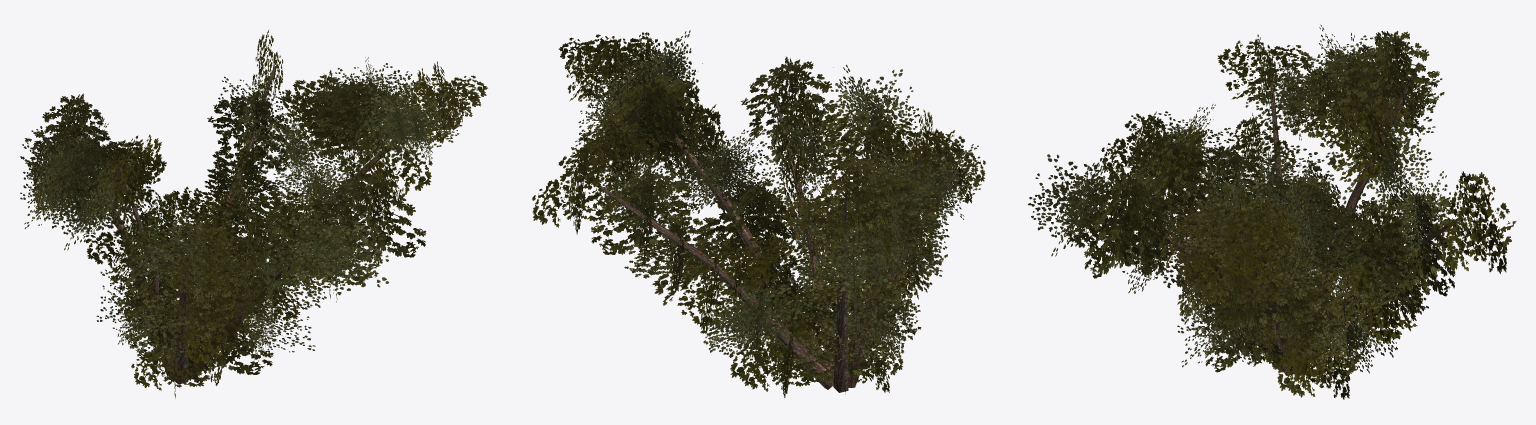
Rendered from bush_3d_05_lod1.glb.
3 views of the same model, side by side, from view 1: azimuth 30°, elevation 25°; view 2: azimuth 150°, elevation 25°; view 3: azimuth 270°, elevation 25° (orthographic). The views are drawn at different scales.
Parts seen in each view (by area): view 1: foliage_cards, wood_geometry; view 2: foliage_cards, wood_geometry; view 3: foliage_cards, wood_geometry.
Boxes of the visible parts, x1=… form: foliage_cards: x1=20, y1=29, x2=487, y2=398; wood_geometry: x1=67, y1=67, x2=442, y2=384; foliage_cards: x1=532, y1=30, x2=985, y2=397; wood_geometry: x1=582, y1=51, x2=958, y2=392; foliage_cards: x1=1028, y1=24, x2=1516, y2=399; wood_geometry: x1=1145, y1=61, x2=1462, y2=375.
Bounding box in the file's own units: 2.79 × 1.71 × 2.5.
Materials: 2 (2 with a texture image).
